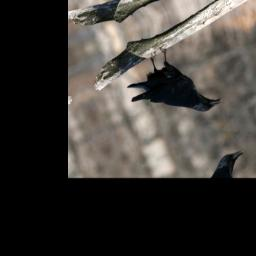Crow: (116, 31, 225, 140)
